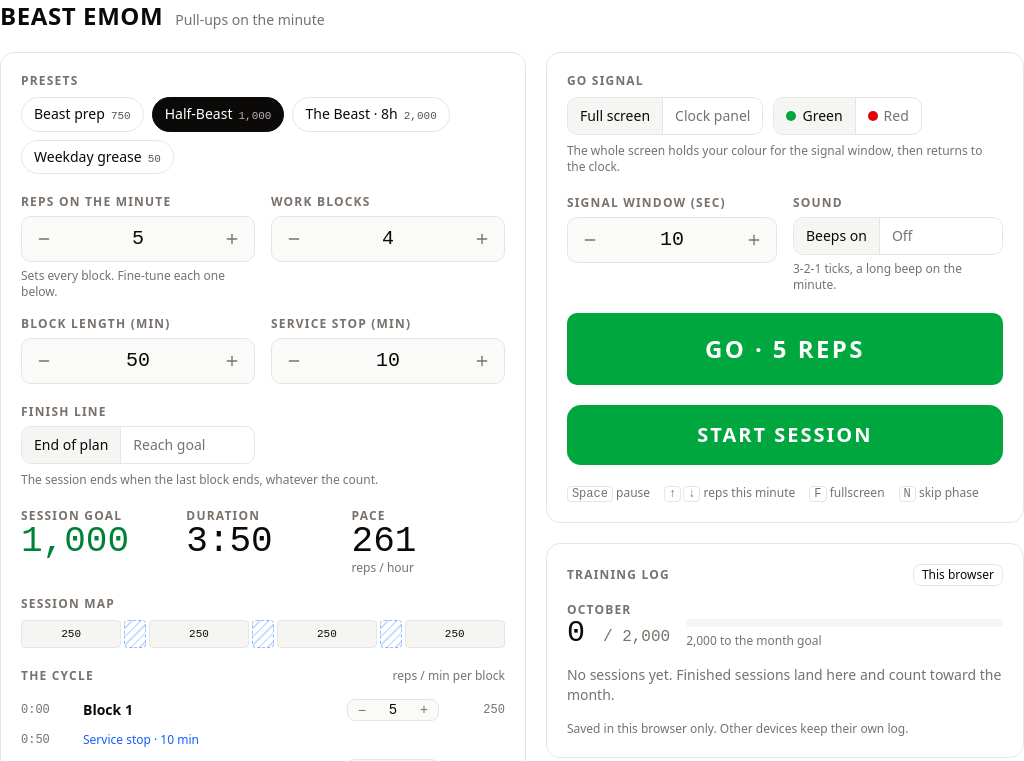
Test: EmomTracker › logs a short minute and saves an ended-early session to the browser log
The width and height of the screenshot is (1024, 761).
Click the button "Start session".
click(785, 435)  # box [567,405,1003,465]
Wait 90000 ms
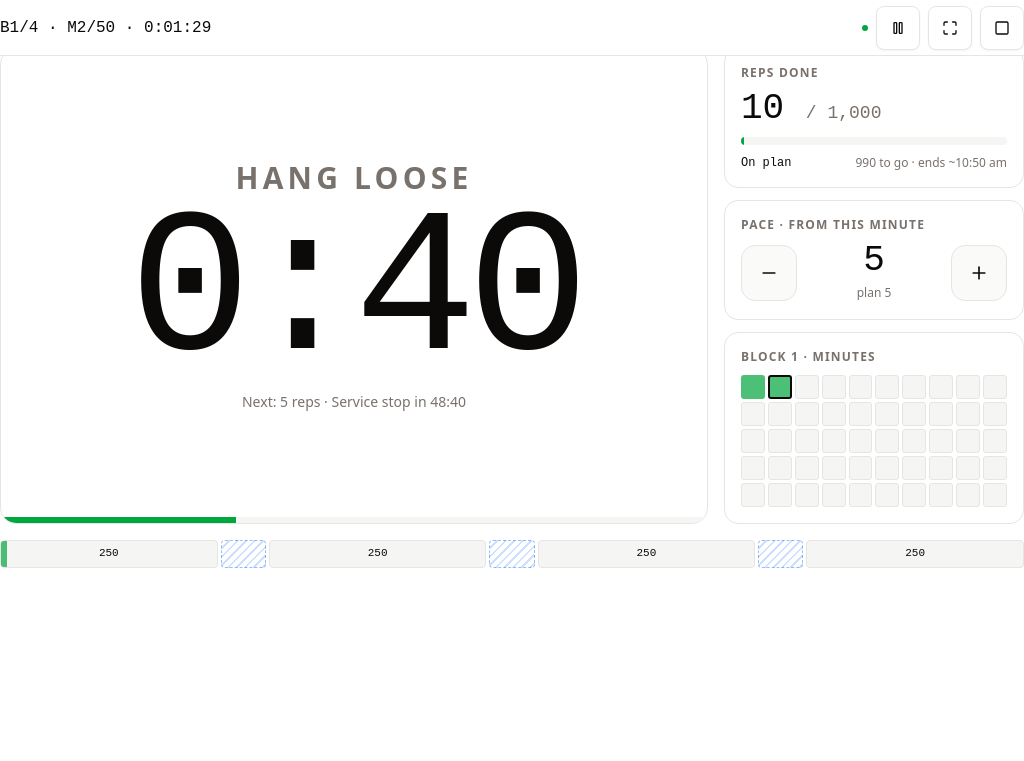
Click the button named "Decrease pace".
click(769, 273)  # box [741,245,797,301]
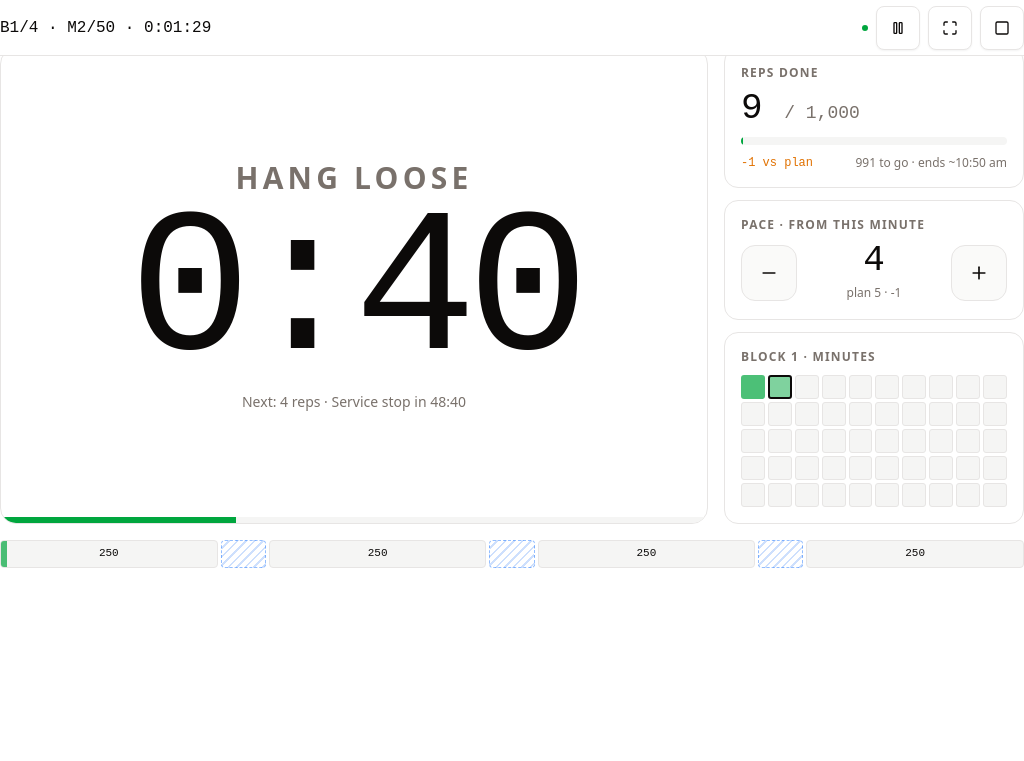
Expected: the text with test id "emom-pace" reads "4", [863,240,885,281]
Expected: the text "-1 vs plan" is shown, [741,155,813,171]
Click the button named "End".
click(1002, 28)  # box [980,6,1023,50]
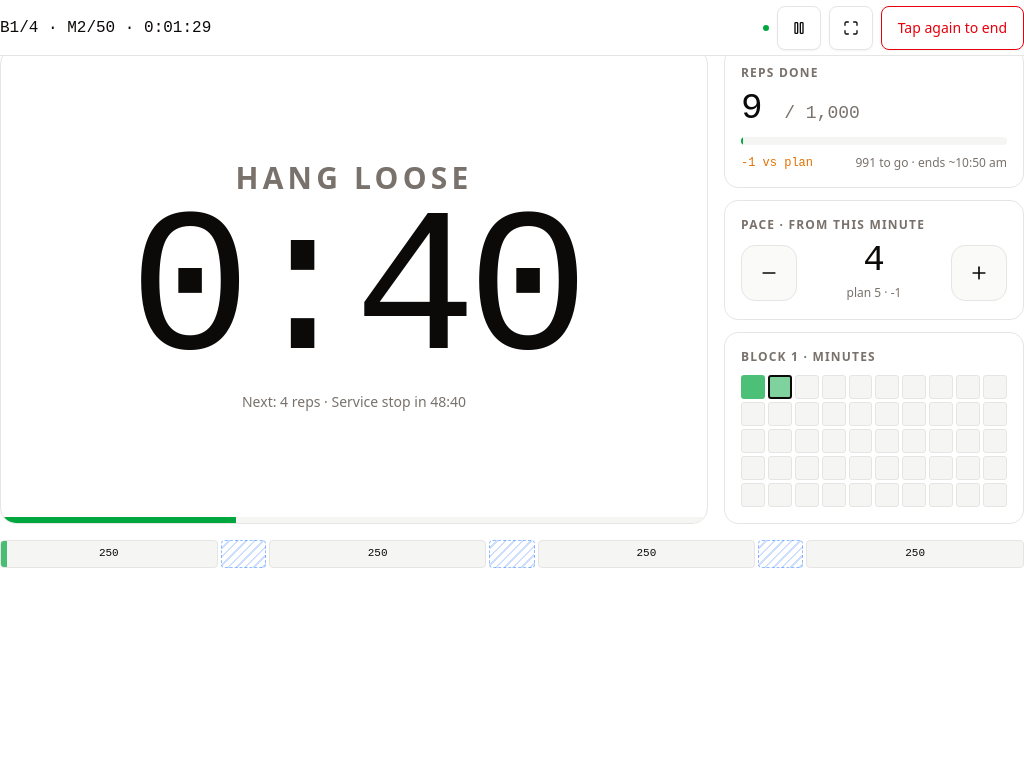
Click the button "Tap again to end".
click(952, 28)  # box [881,6,1023,50]
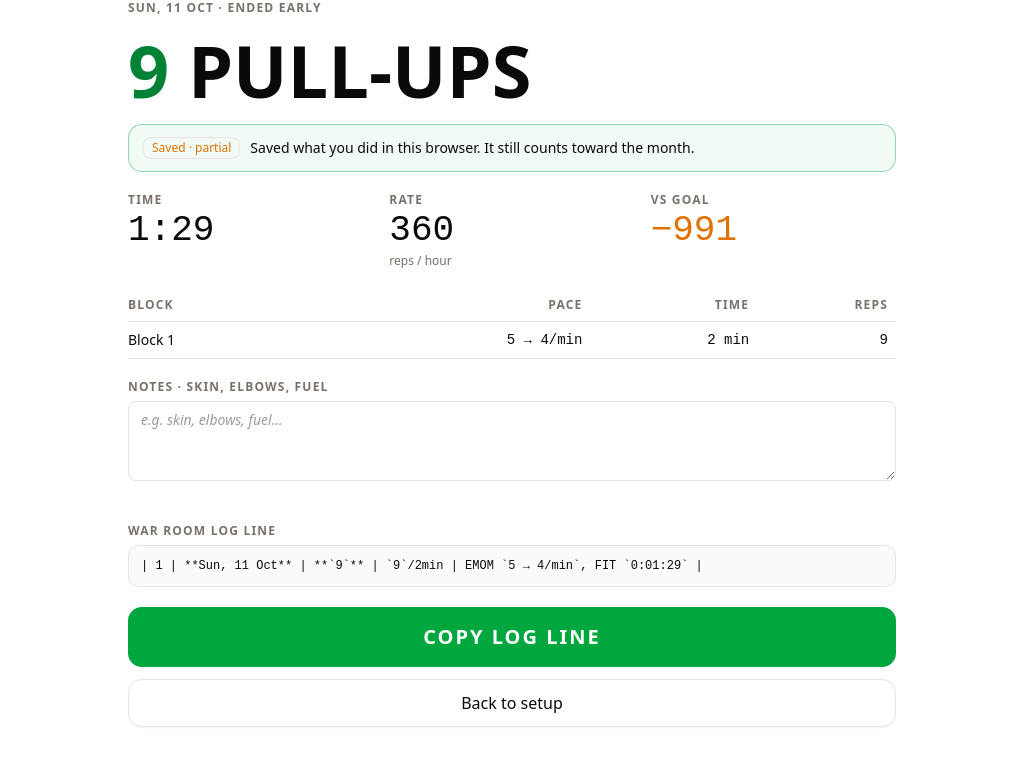
Expected: the text "Saved · partial" is shown, [143,137,240,159]
Expected: the heading reads "9 pull-ups", [128,21,531,119]
